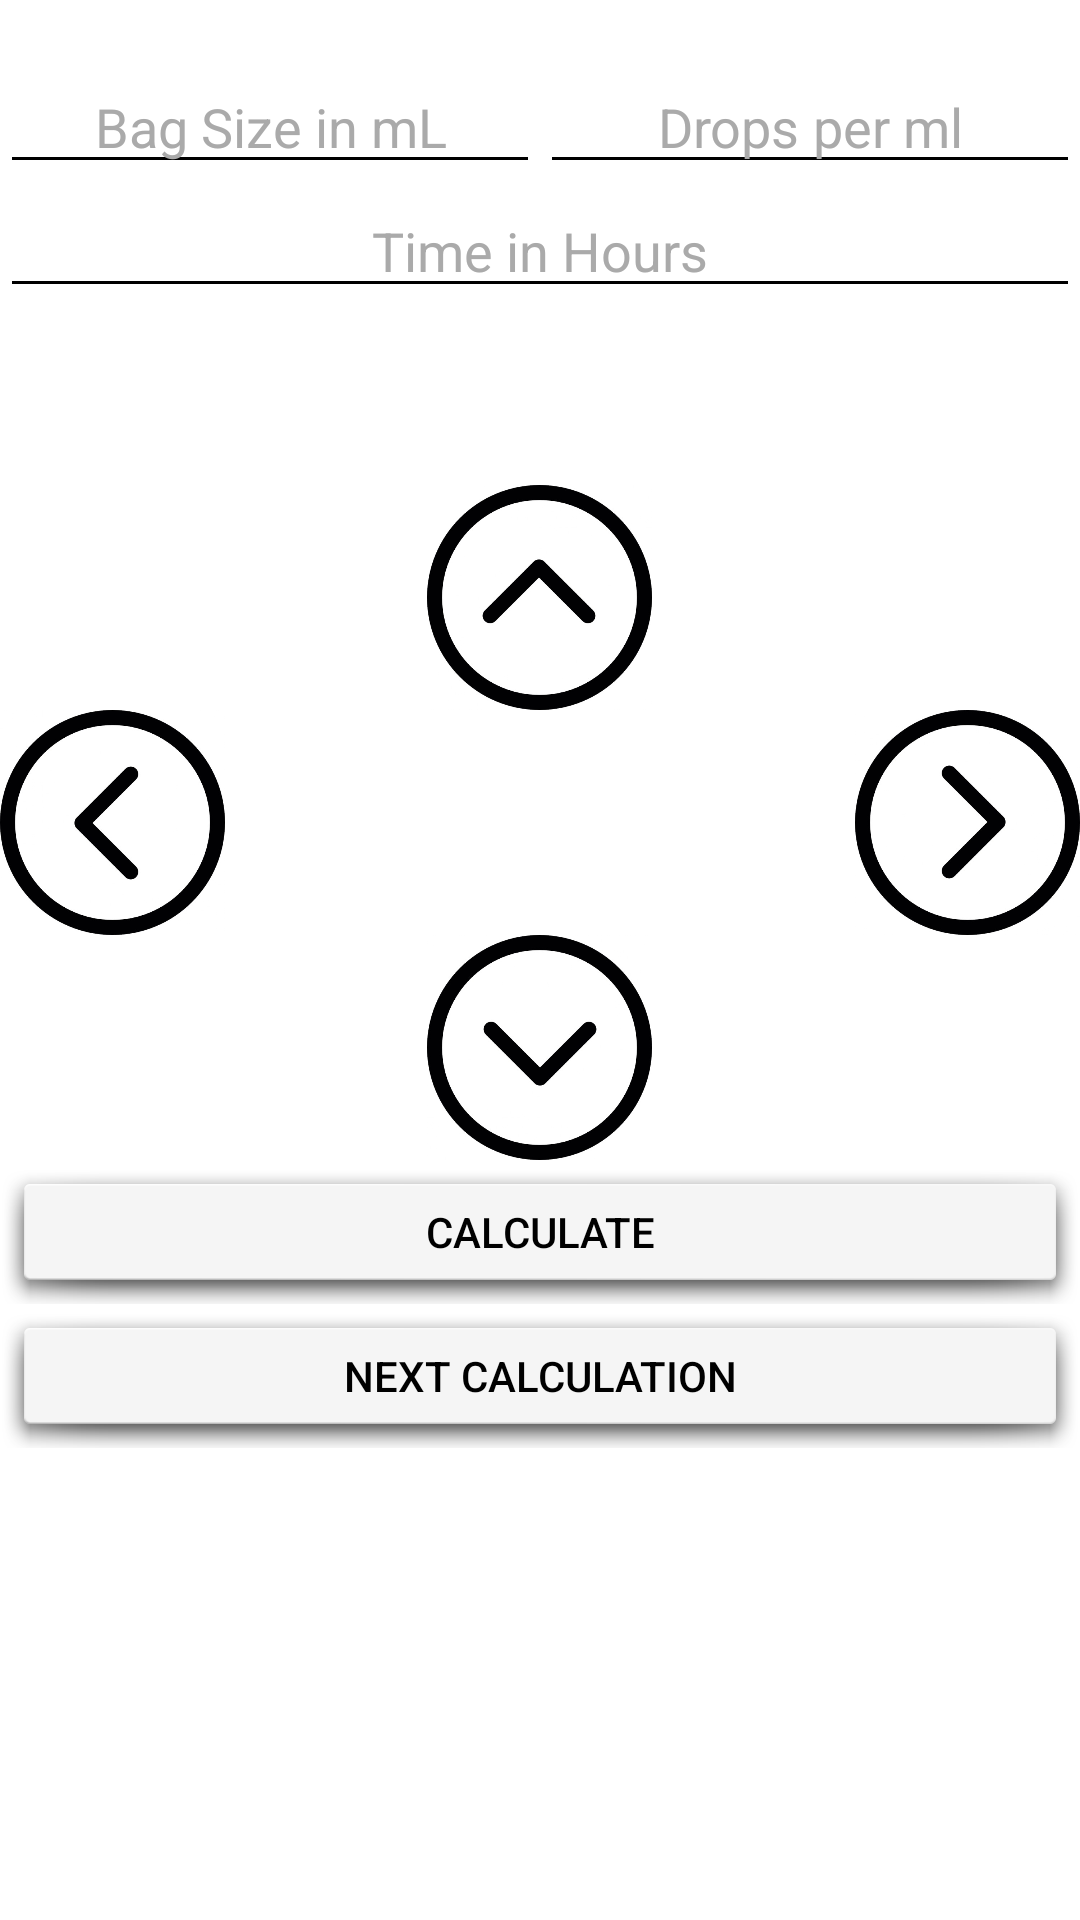

Where to tap for icons on this 1080×1920 app screen, as point (x, y):
arrowdown: point (539, 1047)
arrowleft: point (112, 822)
arrowright: point (967, 822)
arrowup: point (539, 597)
